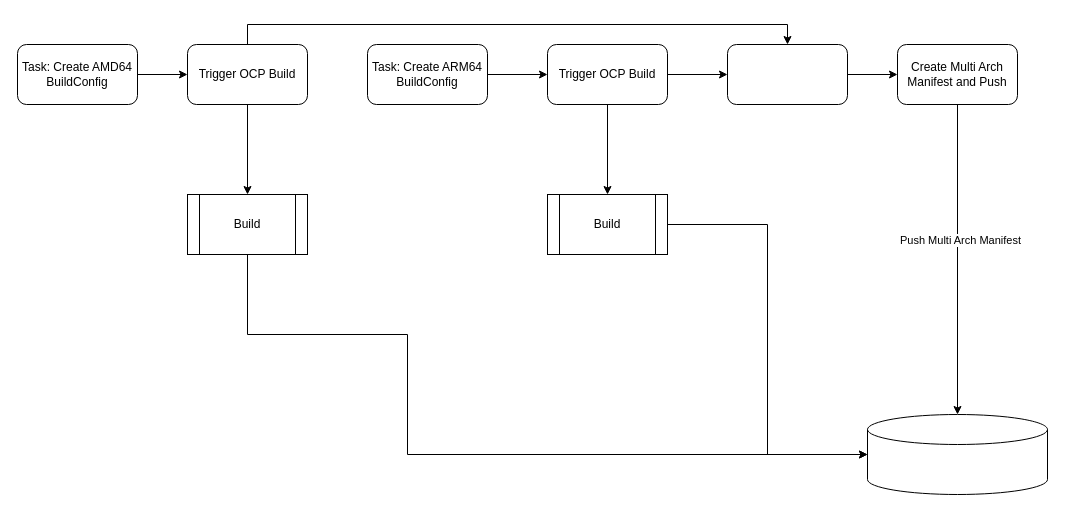
Some shapes in this 1065 by 512 pixel diagram are drawn without their labels. Each missing label, with the centre of its shape:
External Registry: point 957,454
Skopeo Copy: point 787,74
